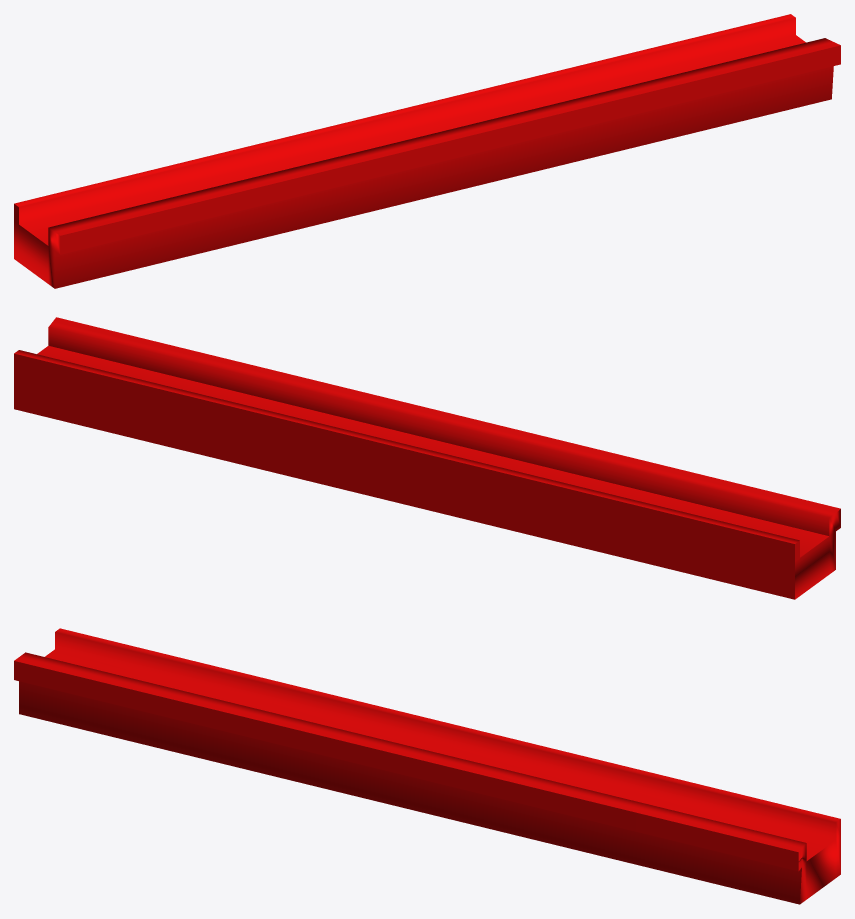
The model's file is mdl_ciudadela_pared_lado.fbx.
3 views of the same model, one above another, from view 1: azimuth 30°, elevation 25°; view 2: azimuth 150°, elevation 25°; view 3: azimuth 330°, elevation 25° (orthographic).
Parts seen in each view (by area): view 1: mdl_ciudadela_pared_lado; view 2: mdl_ciudadela_pared_lado; view 3: mdl_ciudadela_pared_lado.
Boxes of the visible parts, bbox=[...] form: mdl_ciudadela_pared_lado: bbox=[14, 14, 840, 288]; mdl_ciudadela_pared_lado: bbox=[14, 317, 840, 599]; mdl_ciudadela_pared_lado: bbox=[14, 628, 840, 904].
Bounding box in the file's own units: 60.48 × 4.21 × 6.18.
